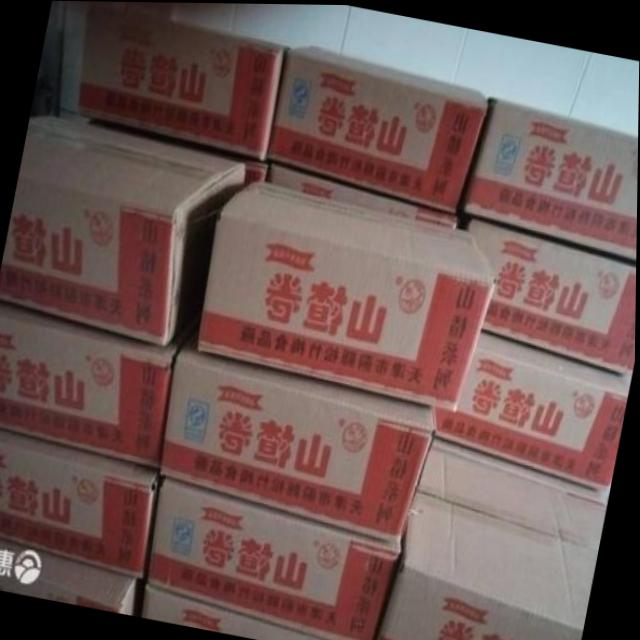box: (197, 179, 495, 410), (159, 324, 435, 540), (0, 114, 246, 345), (377, 435, 609, 640), (145, 474, 404, 640), (267, 42, 487, 212), (0, 300, 203, 469), (81, 1, 290, 160), (435, 331, 633, 493), (459, 95, 639, 260), (467, 213, 637, 374), (0, 428, 159, 580), (268, 158, 457, 224), (0, 536, 144, 616), (141, 581, 323, 640), (227, 153, 268, 188)
